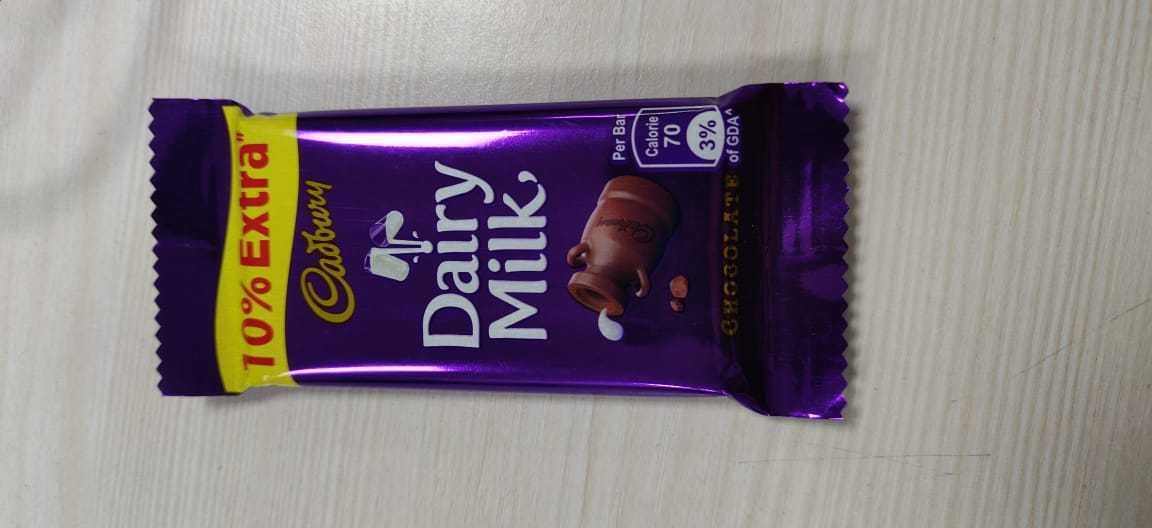dairy milk: (138, 69, 873, 431)
